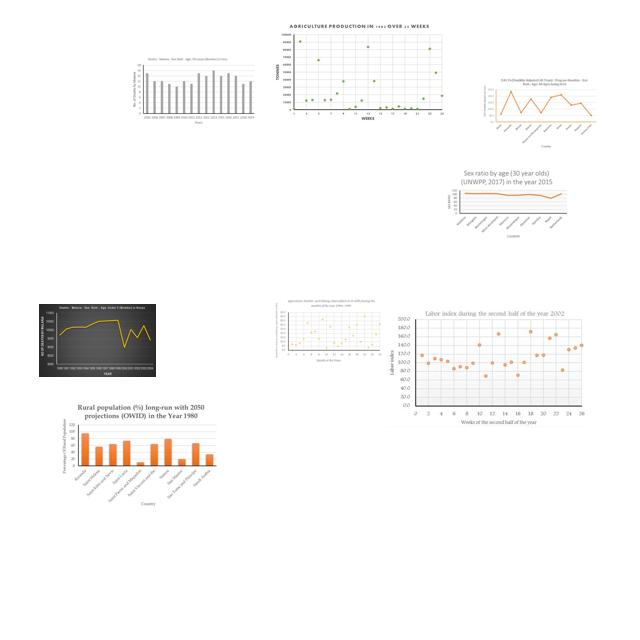Graph: (387, 307, 587, 427), (59, 402, 219, 509), (275, 24, 445, 121), (445, 168, 569, 240), (131, 55, 256, 126), (39, 304, 156, 377), (482, 77, 598, 150), (273, 297, 383, 364)
